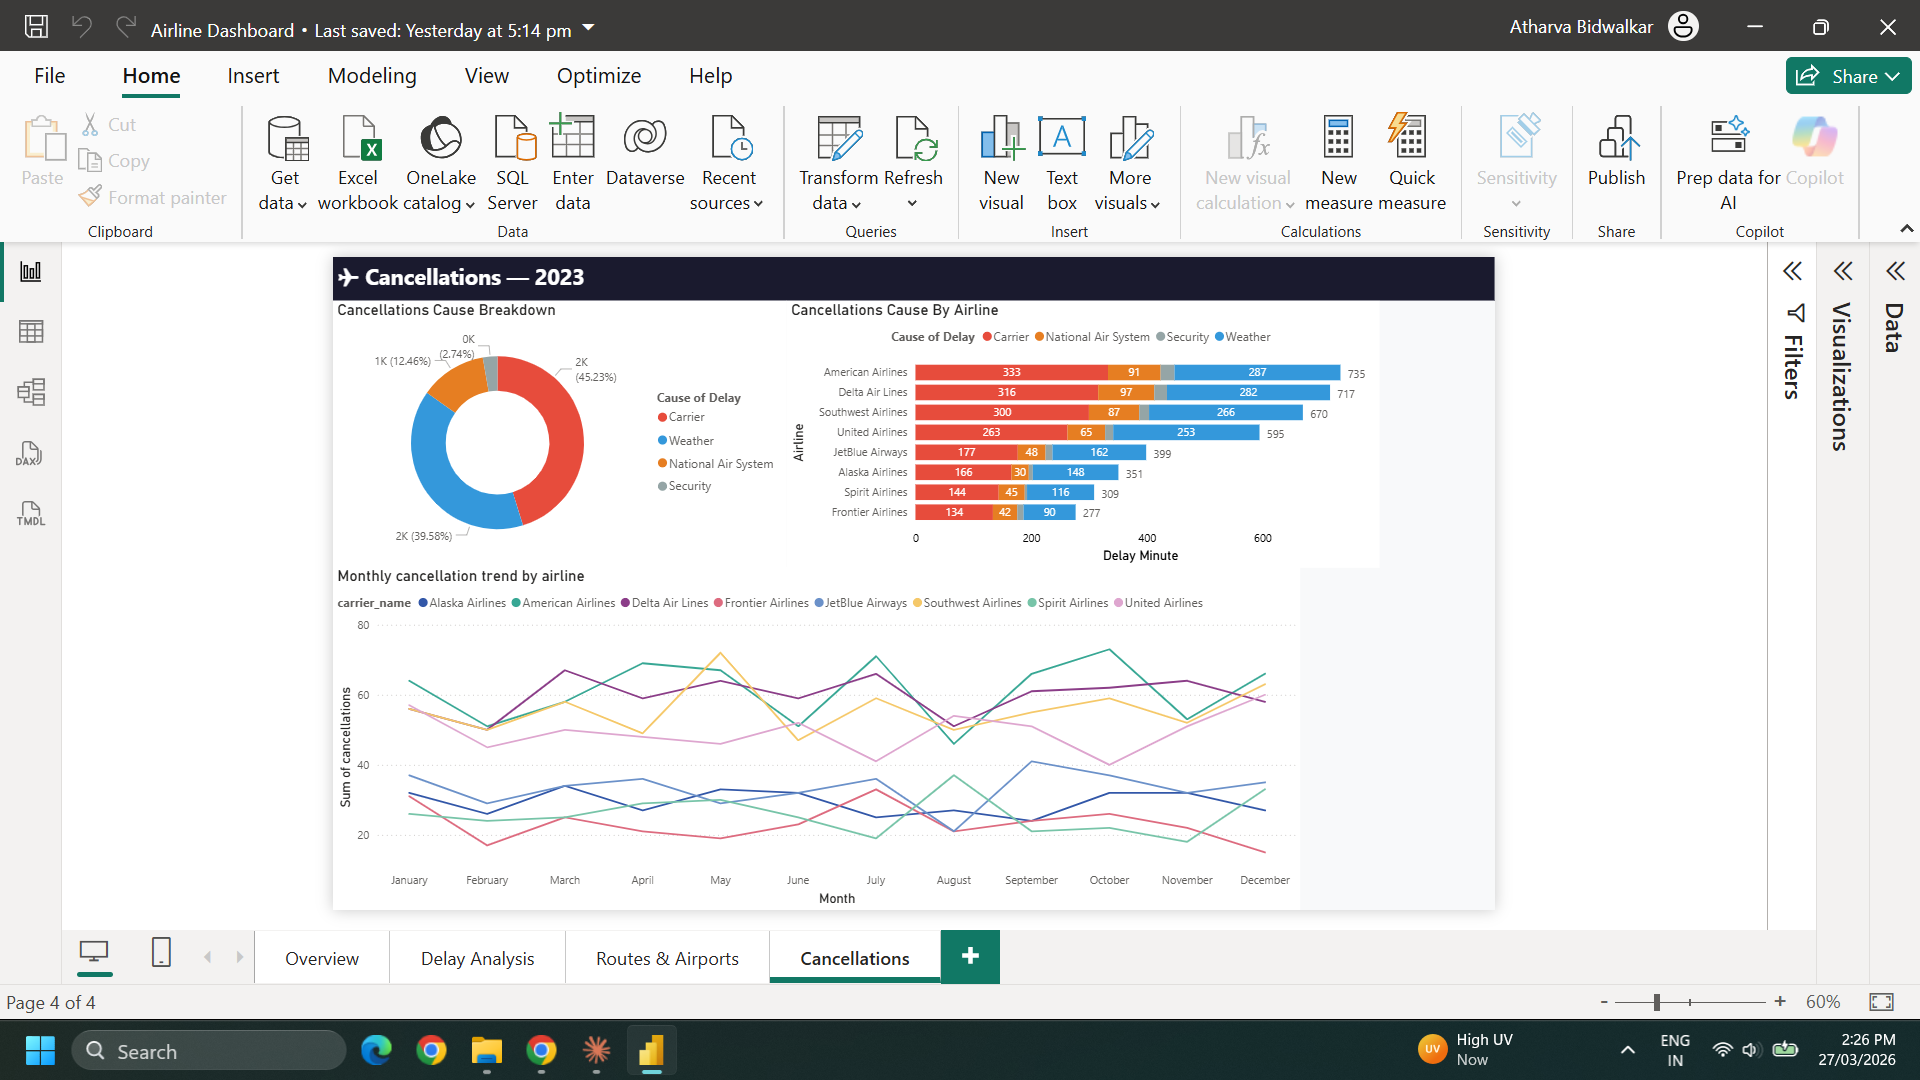

Layout of this report page (visuals, bound fields, positions):
{"tool":"powerbi","page":{"name":"Cancellations ","canvas":[1280,720],"ordinal":3},"visuals":[{"type":"shape","box":[0,0,1280,48],"z":0},{"type":"textbox","box":[0,0,460,48],"z":1000},{"type":"barChart","title":"Cancellations Cause By Airline","fields":{"Y":["Sum(Fact_Cancellations.cancellations)"],"Series":["Fact_Cancellations.cancel_reason"],"Category":["Fact_Cancellations.carrier_name"]},"box":[500,48,653,294],"z":2000},{"type":"donutChart","title":"Cancellations Cause Breakdown","fields":{"Category":["Fact_Cancellations.cancel_reason"],"Y":["Sum(Fact_Cancellations.cancellations)"]},"box":[0,48,500,294],"z":3000},{"type":"lineChart","title":"Monthly cancellation trend by airline","fields":{"Category":["Dim_Date.date.Variation.Date Hierarchy.Month"],"Y":["Sum(Fact_Cancellations.cancellations)"],"Series":["Fact_Cancellations.carrier_name"]},"box":[0,342,1066,378],"z":3001}]}

Visuals, with their boxes on the page's 1280x720 design canvas (x1, y1, x2, y2). These are canvas units, not pixel positions in the 1920x1080 screenshot, which may show the page scaled, cropped or inside an application window:
shape: [0,0,1280,48]
textbox: [0,0,460,48]
"Cancellations Cause By Airline" barChart: [500,48,1153,342]
"Cancellations Cause Breakdown" donutChart: [0,48,500,342]
"Monthly cancellation trend by airline" lineChart: [0,342,1066,720]
